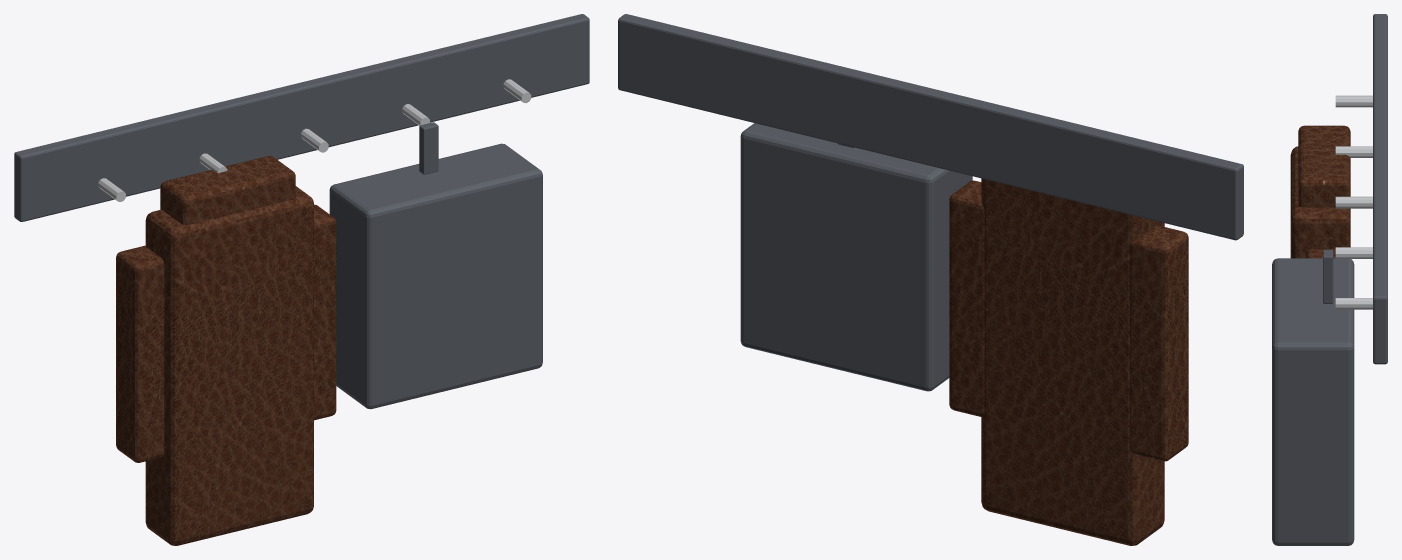
File: coat_rail.glb
The picture shows the model from 3 angles, left to right: view 1: azimuth 30°, elevation 25°; view 2: azimuth 150°, elevation 25°; view 3: azimuth 270°, elevation 25°; orthographic projection. The views are drawn at different scales.
Parts seen in each view (by area): view 1: CoatRail; view 2: CoatRail; view 3: CoatRail.
Boxes of the visible parts, left/top/right/bottom form: CoatRail: left=14, top=14, right=589, bottom=545; CoatRail: left=618, top=14, right=1243, bottom=545; CoatRail: left=1272, top=14, right=1387, bottom=545.
Bounding box in the file's own units: 1.08 × 0.708 × 0.186.
Materials: 3 (1 with a texture image).
